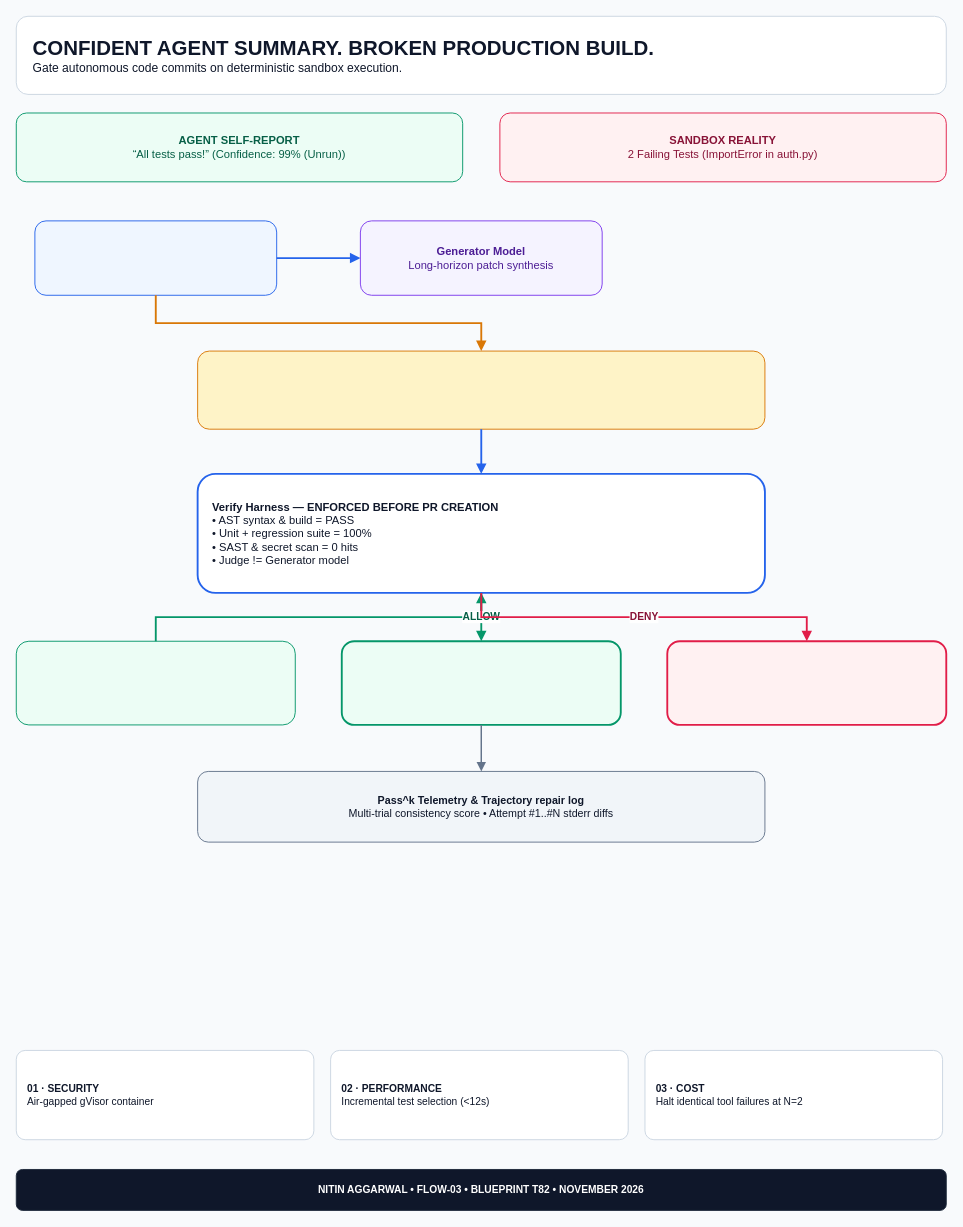
Image size: 963x1227. Some labels were removed from this diagram. Each missing label, with the centre of its shape:
"ALLOW → GitHub / Critique PR Signed SHA verification receipt" goes at point (480, 682).
"Autonomous Coding Agent OpenHands / ADK Code Writer" goes at point (155, 257).
"DENY → Commit rejected Stderr fed back for repair" goes at point (806, 682).
"Golden Replay Corpus gVisor Sandbox (Isolated test runner)" goes at point (155, 682).
"Verify Gate (COMMIT ENFORCEMENT) gVisor Sandbox · Orthogonal Judge" goes at point (481, 389).
